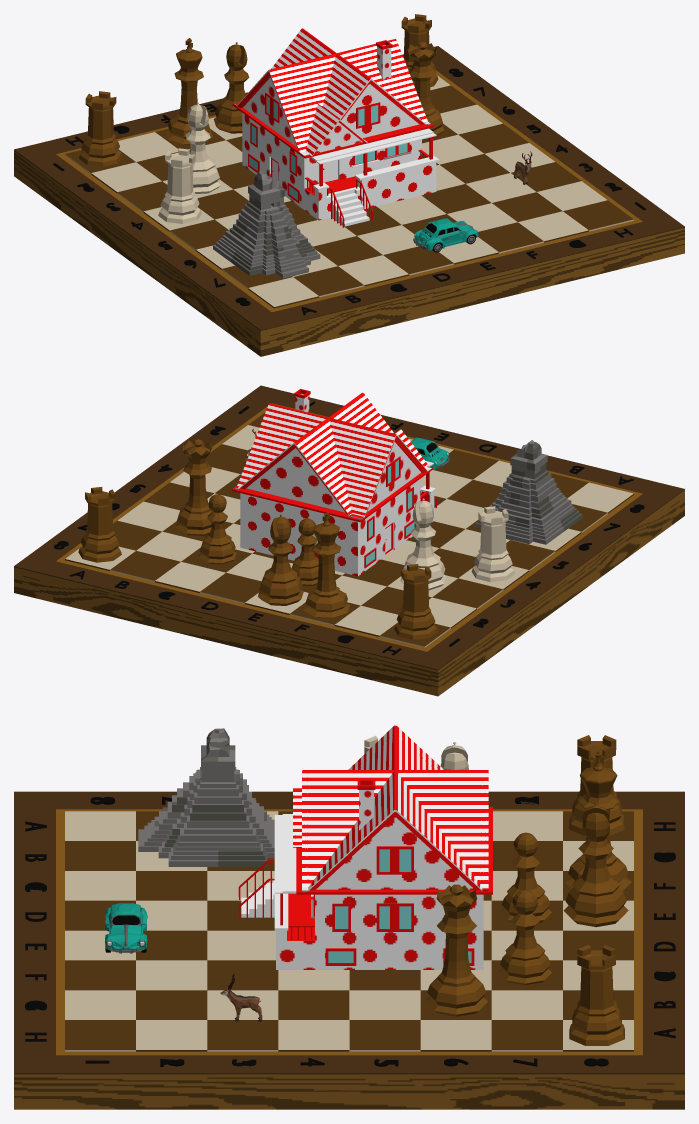
3 renders of one model, top to bottom at view 1: azimuth 30°, elevation 25°; view 2: azimuth 150°, elevation 25°; view 3: azimuth 270°, elevation 25°, orthographic. The views are drawn at different scales.
Visible parts, largest first — view 1: Cube.002, Cube.196, OBJRANDOM_GRAN_JAGUAR, VEHICLES_VOLKSWAGEN; view 2: Cube.002, Cube.196, OBJRANDOM_GRAN_JAGUAR, VEHICLES_VOLKSWAGEN; view 3: Cube.002, Cube.196, OBJRANDOM_GRAN_JAGUAR, VEHICLES_VOLKSWAGEN, ANIMAL_VENADO.
Boxes of the visible parts, left/top/right/bottom form: Cube.002: left=14, top=14, right=684, bottom=356; Cube.196: left=232, top=28, right=439, bottom=227; OBJRANDOM_GRAN_JAGUAR: left=213, top=171, right=320, bottom=278; VEHICLES_VOLKSWAGEN: left=413, top=218, right=478, bottom=252; Cube.002: left=14, top=385, right=684, bottom=696; Cube.196: left=232, top=389, right=436, bottom=576; OBJRANDOM_GRAN_JAGUAR: left=475, top=440, right=582, bottom=544; VEHICLES_VOLKSWAGEN: left=410, top=437, right=449, bottom=469; Cube.002: left=14, top=735, right=684, bottom=1109; Cube.196: left=238, top=725, right=492, bottom=969; OBJRANDOM_GRAN_JAGUAR: left=138, top=728, right=274, bottom=866; VEHICLES_VOLKSWAGEN: left=105, top=903, right=147, bottom=953; ANIMAL_VENADO: left=220, top=973, right=262, bottom=1021.
Bounding box in the file's own units: 3981 × 1488 × 4012.
30 materials, 3 textured.
